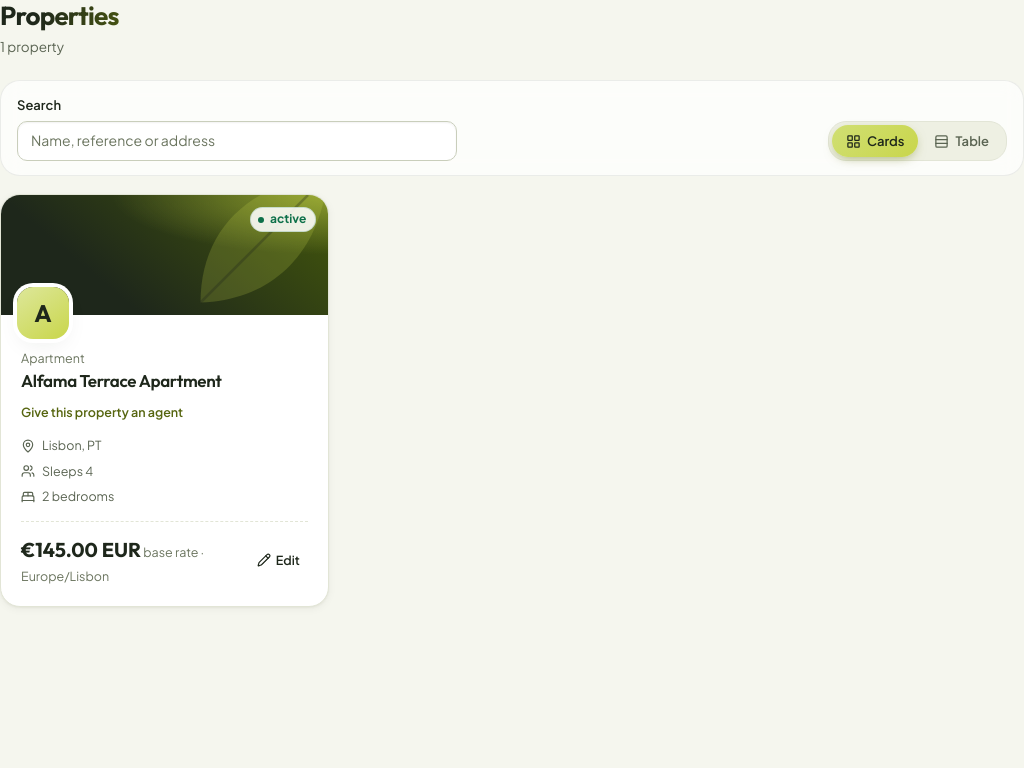
putting a property on sale › offers no archiving to somebody who may not do it
The width and height of the screenshot is (1024, 768).
Click the button "Edit": [278, 560] box [248, 545, 308, 575]
(page scrolled)
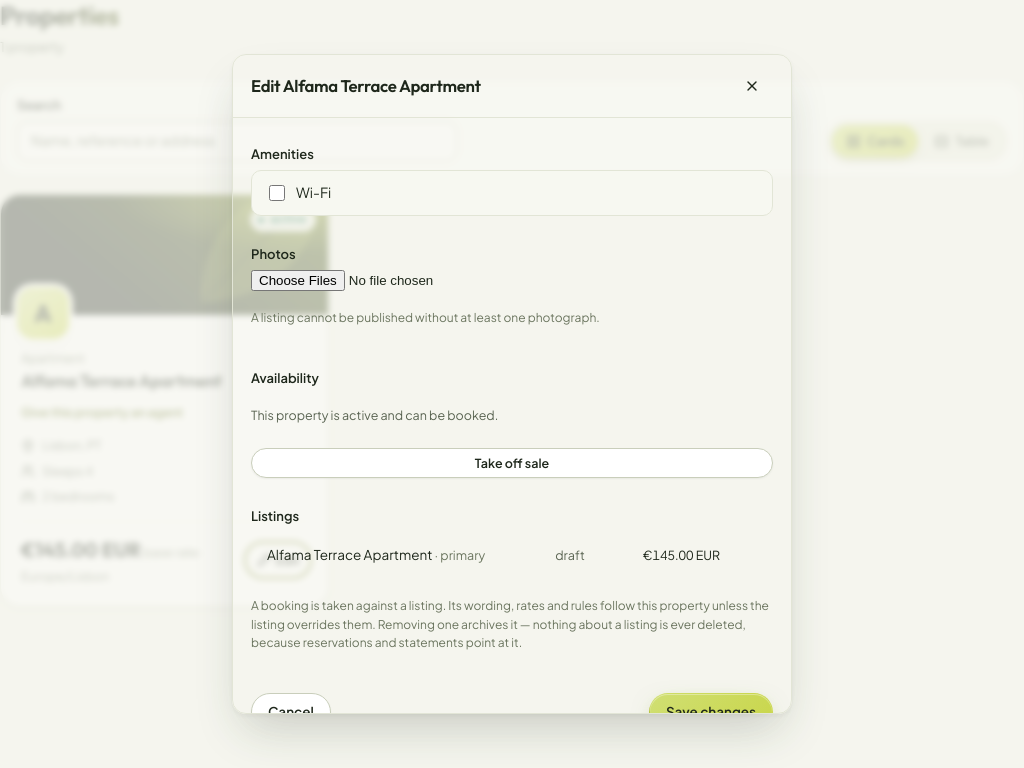
Result: the text "This property is active and can be booked." is shown at [251, 407, 498, 423]
